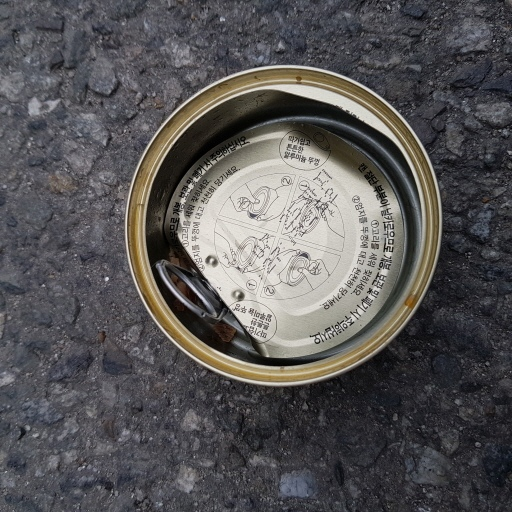Metal_1: (121, 61, 445, 391)
